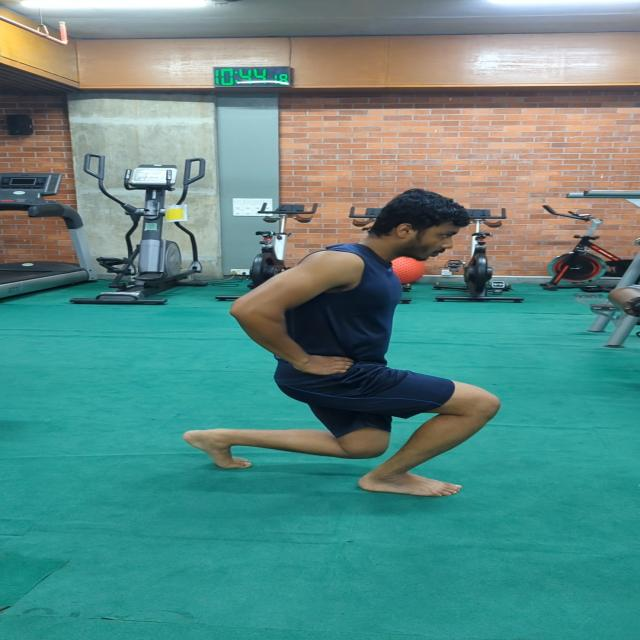Normal_Lunges: (170, 179, 518, 503)
